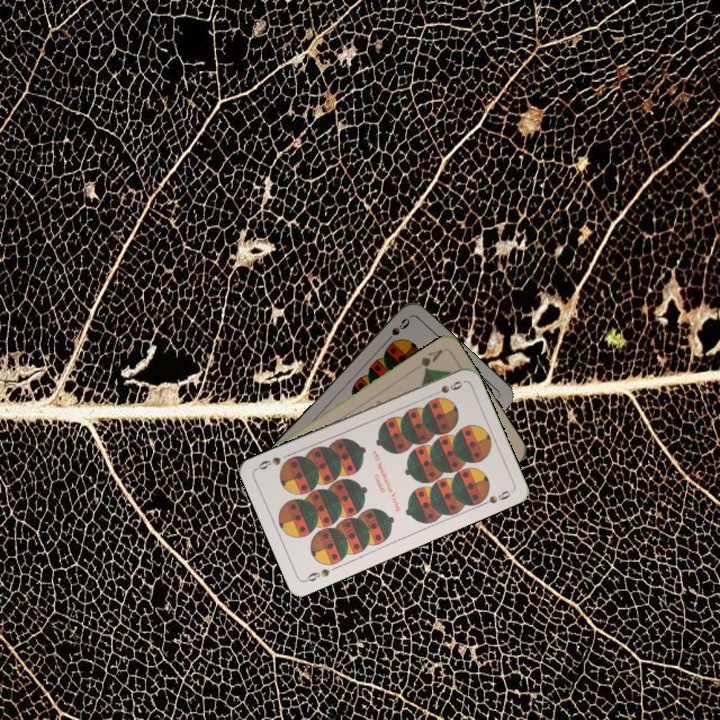GA: (417, 345, 445, 373)
S9: (380, 314, 412, 347), (427, 377, 465, 399), (301, 564, 332, 584)
